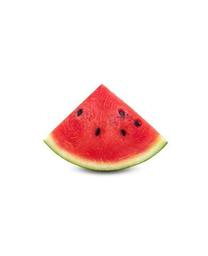watermelon: (42, 83, 170, 174)
